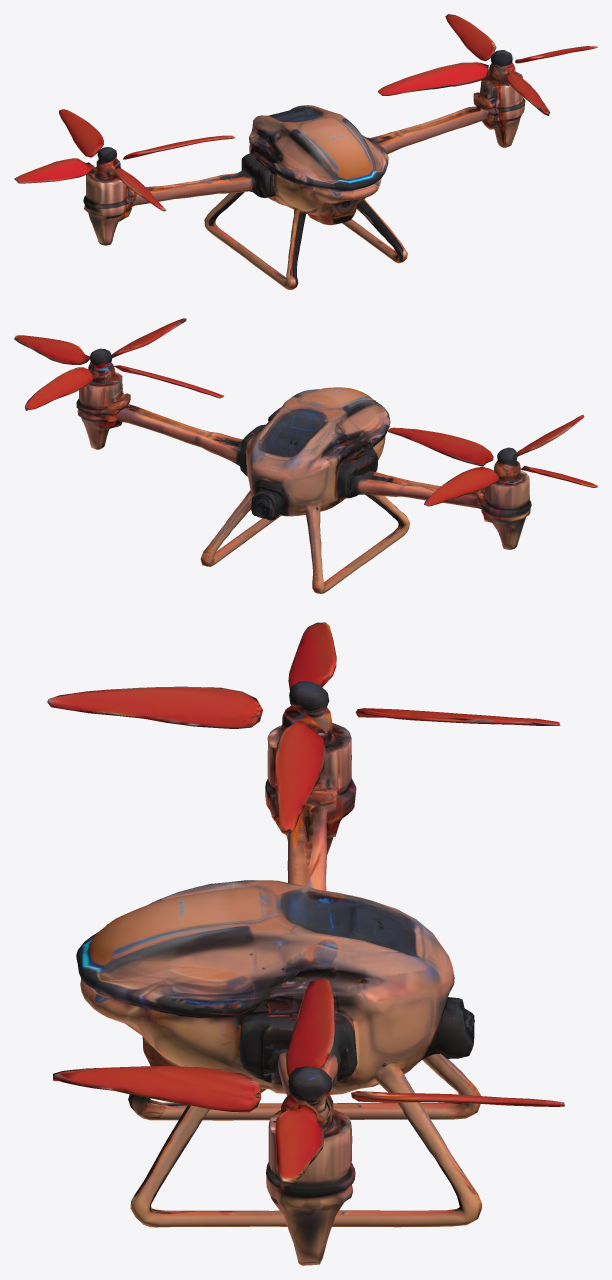
The model's file is bicopter_orange.glb.
3 views of the same model, one above another, from view 1: azimuth 30°, elevation 25°; view 2: azimuth 150°, elevation 25°; view 3: azimuth 270°, elevation 25° (orthographic). The views are drawn at different scales.
Size of the model in its own units: 2 by 0.4935 by 0.7824.
1 material, 1 textured.
